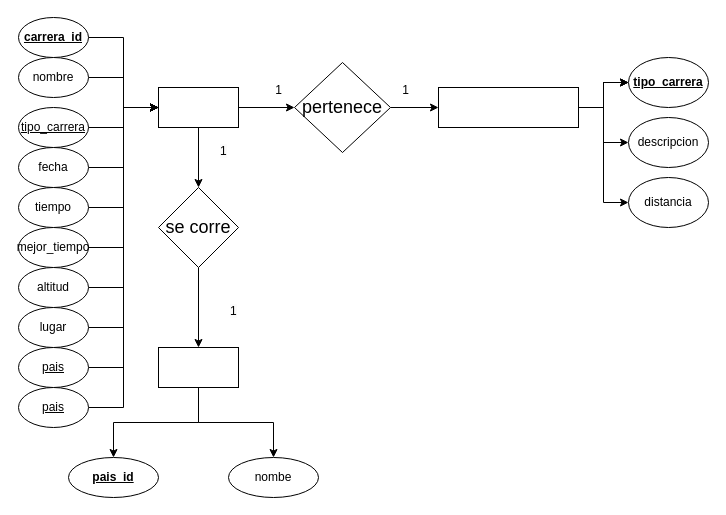
Some shapes in this 726 by 515 pixel diagram are drawn without their labels. Each missing label, with the box of its shape:
carreras: (158, 86, 238, 128)
paises: (158, 346, 238, 388)
tipos_carreras: (438, 86, 578, 128)
